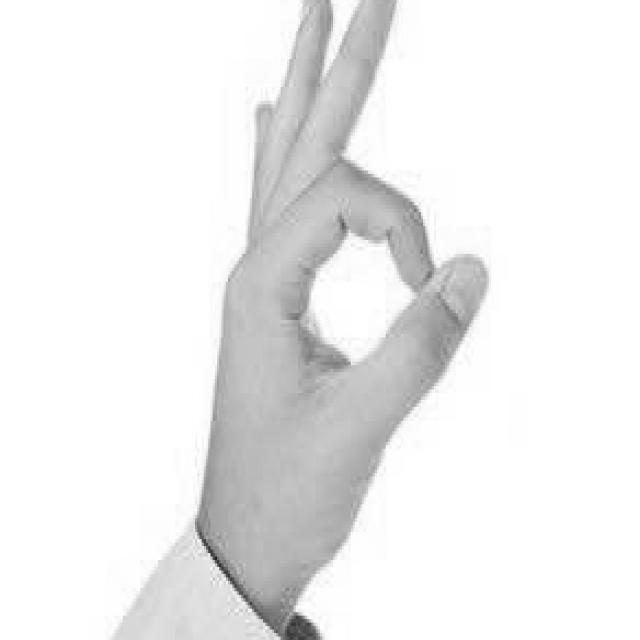perfect: (193, 0, 493, 637)
